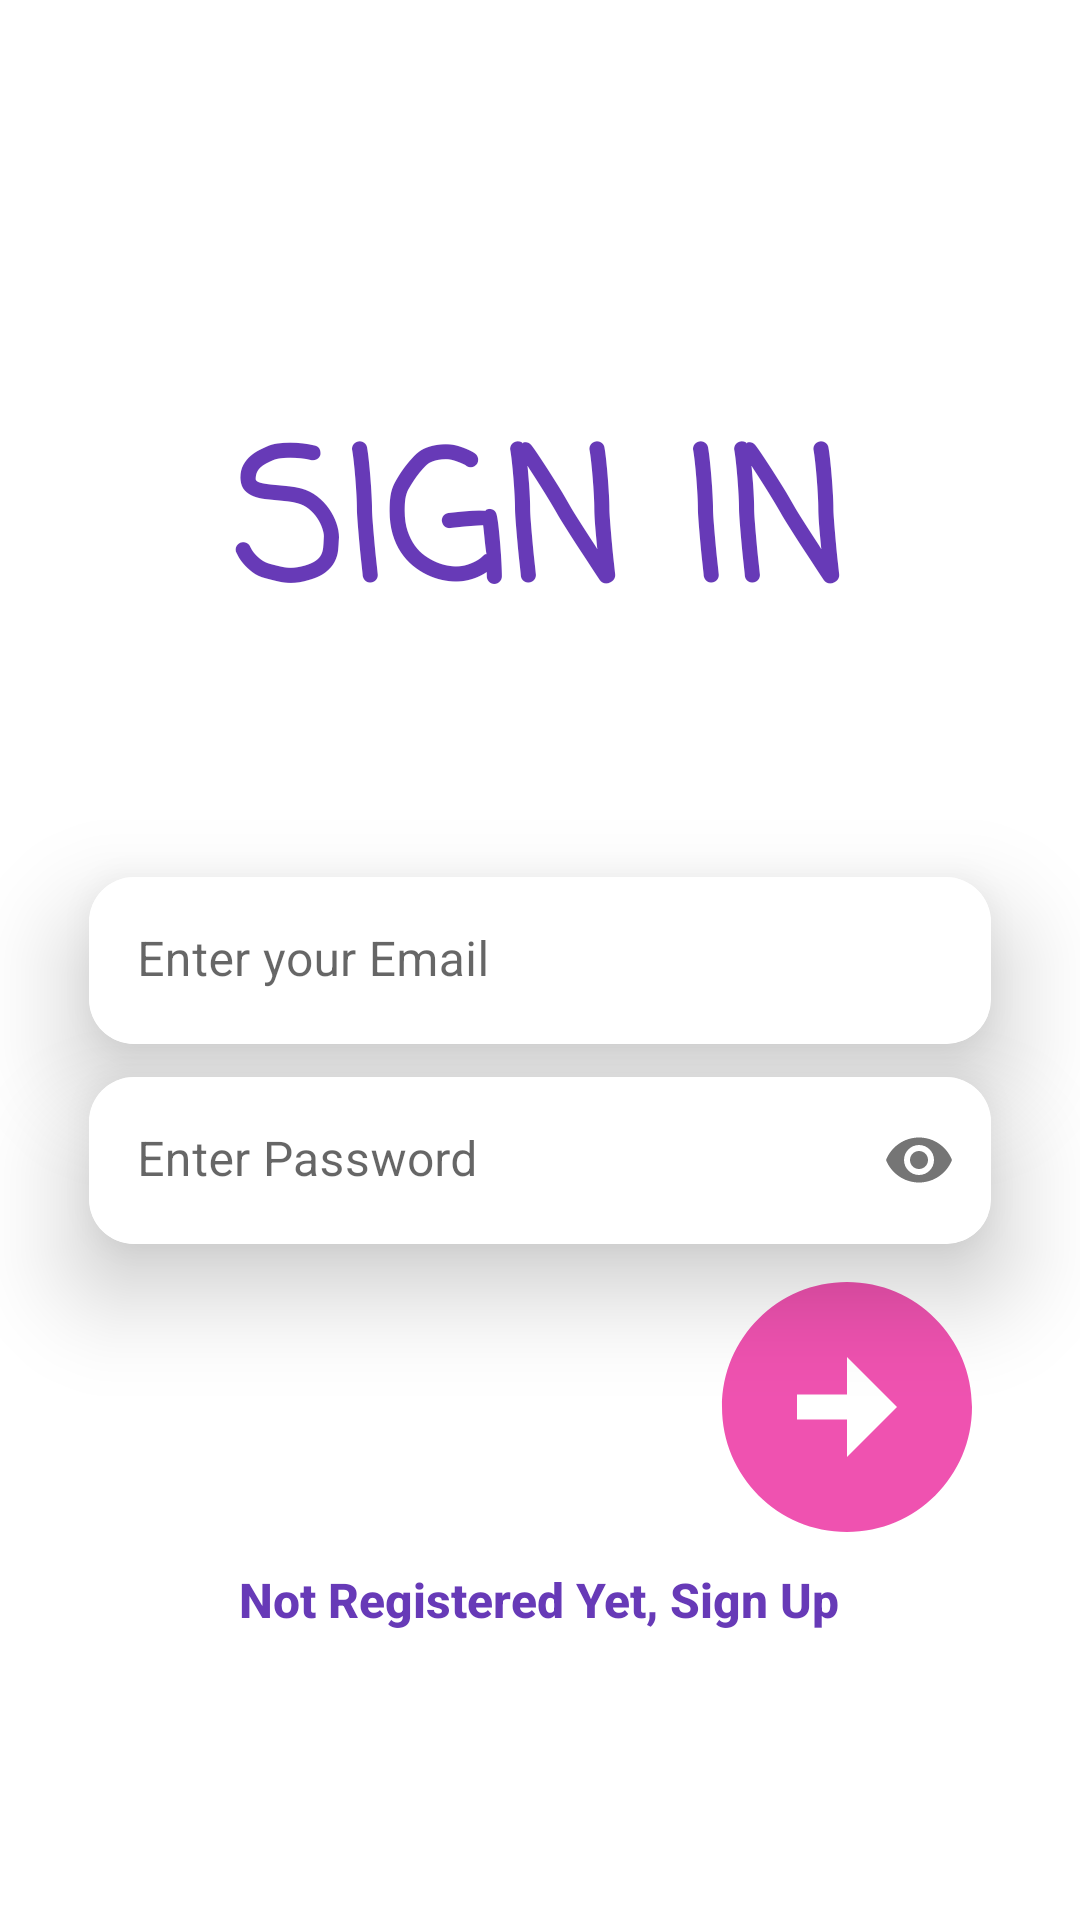

Where icons sit on this 1080px×1920px app screen, as (x1, y1, x2, y2):
arrow circle right: (697, 1257, 997, 1532)
